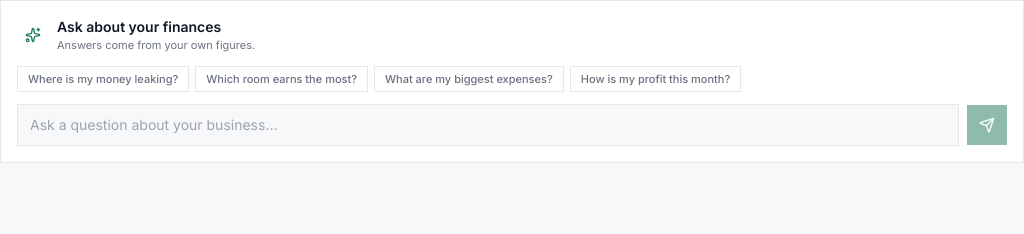
it: FinanceAskBox › offers prompt suggestions and shows the assistant answer
The width and height of the screenshot is (1024, 234).
Expected: the button "Where is my money leaking?" is shown, top-left (17, 66), bottom-right (189, 92)
Type "Where is my money leaking?" into the field with placeholder "Ask a question about your business…".
click(488, 125); type("Where is my money leaking?")  # box top-left (17, 104), bottom-right (959, 146)
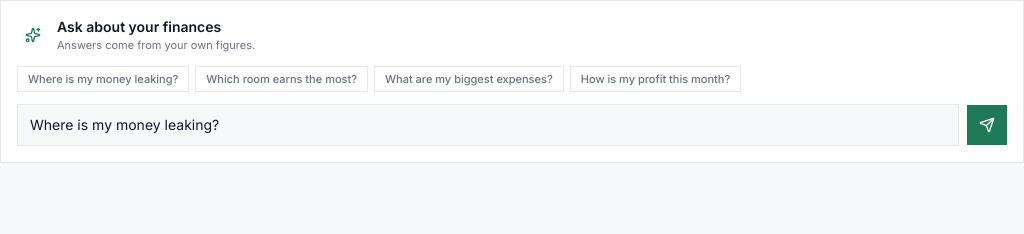
Submit the form with placeholder "Ask a question about your business…", box top-left (17, 104), bottom-right (1007, 146)
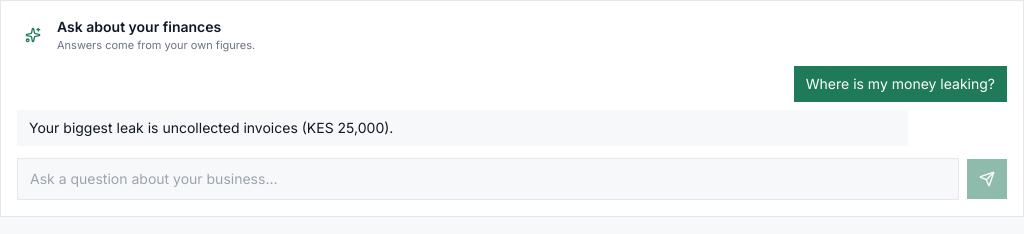
Now the text "Your biggest leak is uncollected invoices (KES 25,000)." is shown, box top-left (17, 110), bottom-right (908, 146)
